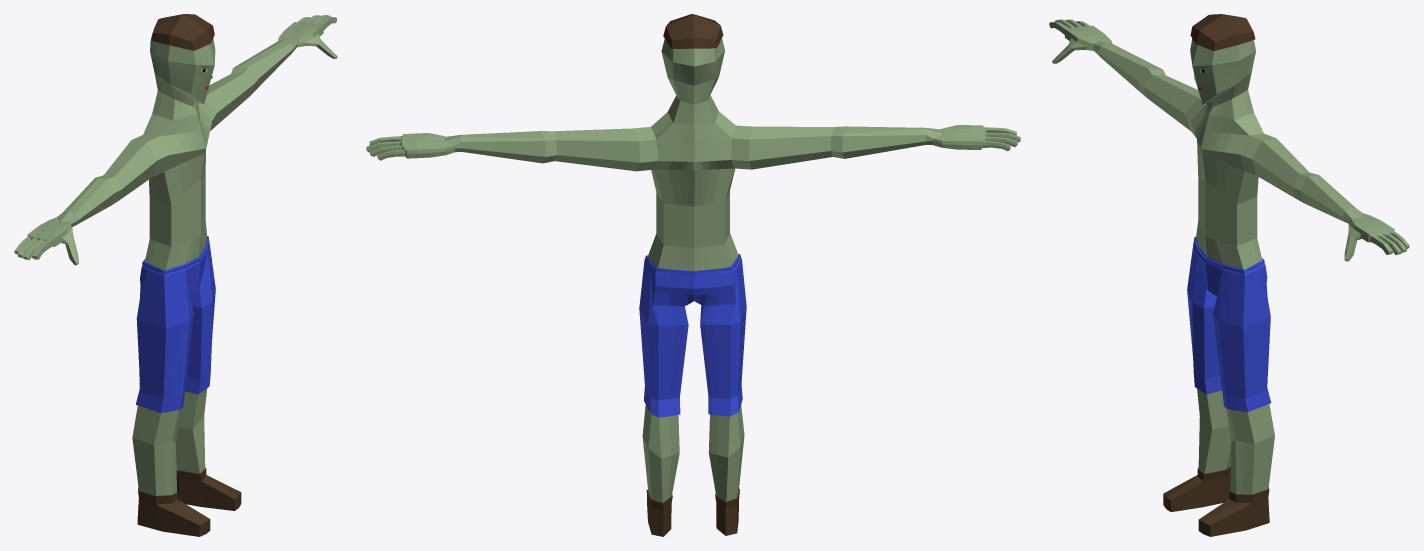
File: Character_Enemy.fbx
The picture shows the model from 3 angles, left to right: view 1: azimuth 30°, elevation 25°; view 2: azimuth 150°, elevation 25°; view 3: azimuth 270°, elevation 25°; orthographic projection.
Parts seen in each view (by area): view 1: Cube; view 2: Cube; view 3: Cube.
Part boxes in pixels (x1,y1,x2,y2): Cube: (14, 14, 337, 536); Cube: (366, 14, 1020, 536); Cube: (1049, 14, 1409, 536).
Size of the model in its own units: 2638 by 2629 by 1716.
